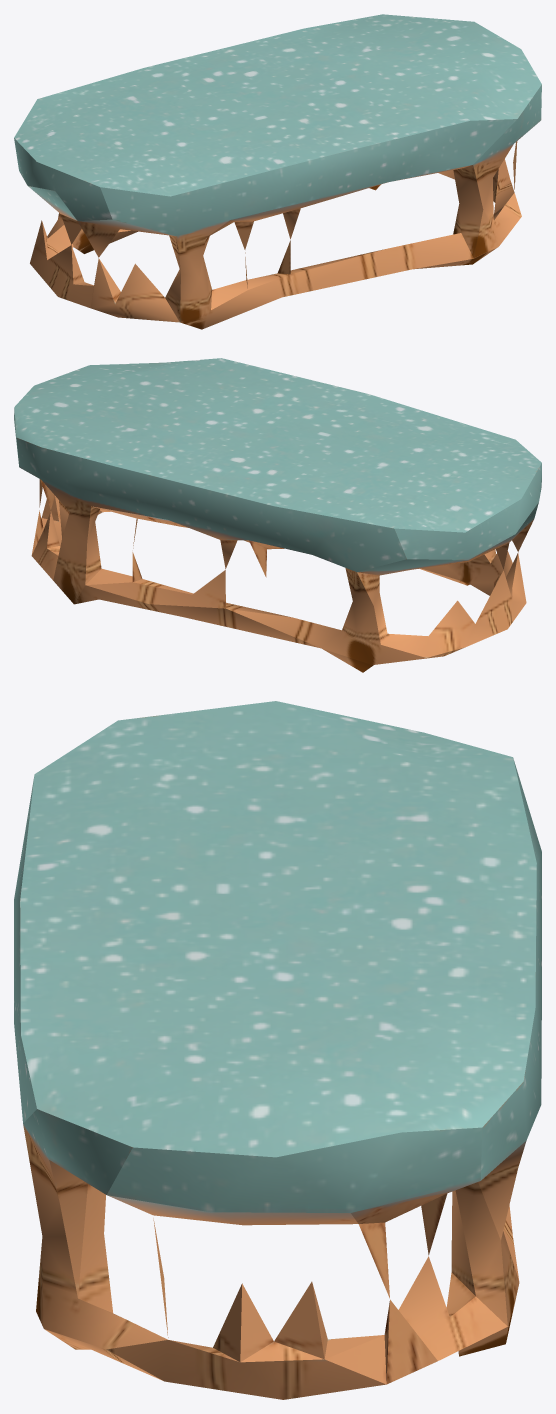
The model's file is seavilla-oval-coffee-table.glb.
3 views of the same model, one above another, from view 1: azimuth 30°, elevation 25°; view 2: azimuth 150°, elevation 25°; view 3: azimuth 270°, elevation 25° (orthographic). The views are drawn at different scales.
Parts seen in each view (by area): view 1: geometry_0; view 2: geometry_0; view 3: geometry_0.
Part boxes in pixels (box(x1,y1,x2,y2)): geometry_0: box(14, 14, 541, 329); geometry_0: box(14, 358, 541, 672); geometry_0: box(14, 701, 541, 1399).
Size of the model in its own units: 1 by 0.3174 by 0.4987.
1 material, 1 textured.
